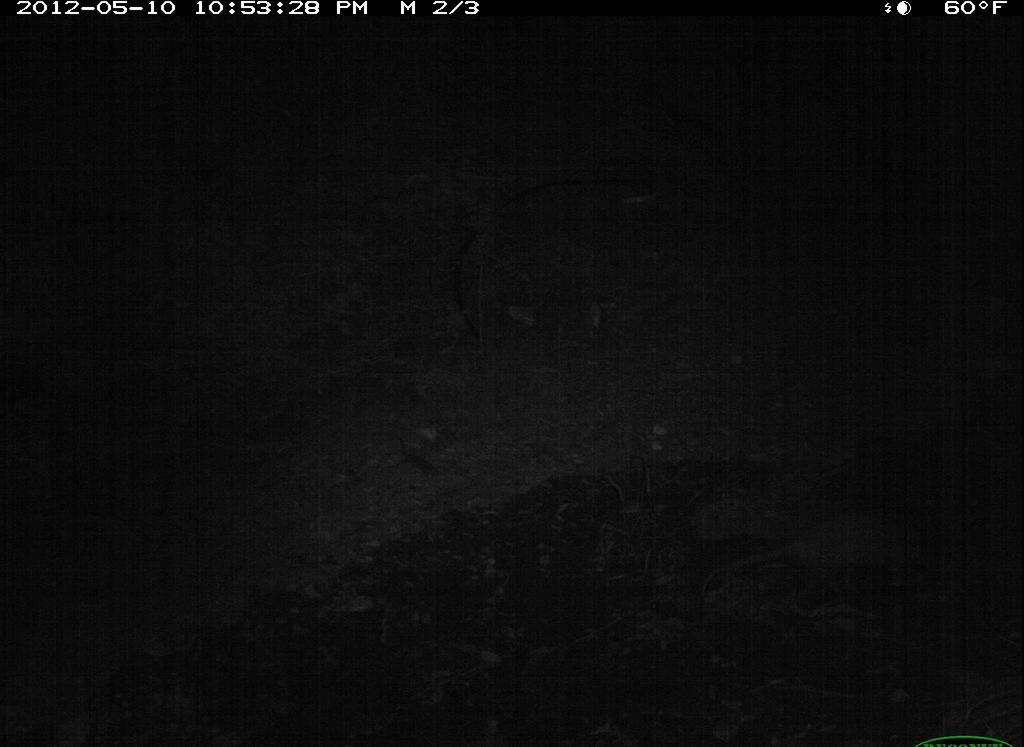opossum: (698, 498, 980, 603)
